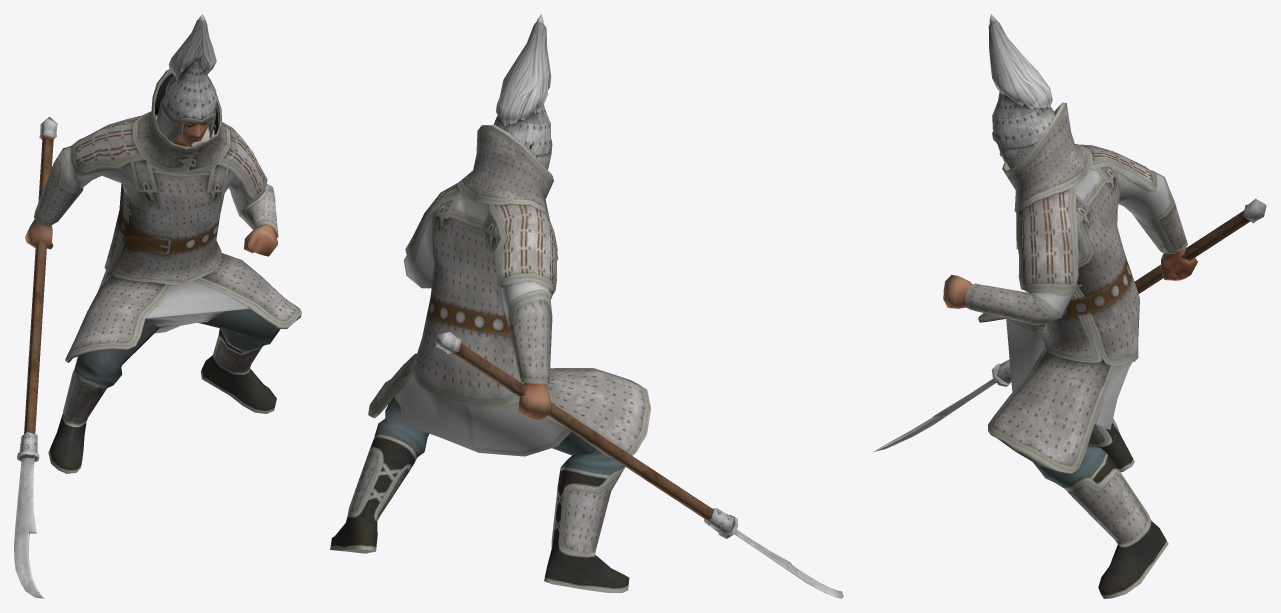
File: rider-championcavalry.glb
The picture shows the model from 3 angles, left to right: view 1: azimuth 30°, elevation 25°; view 2: azimuth 150°, elevation 25°; view 3: azimuth 270°, elevation 25°; orthographic projection. The views are drawn at different scales.
Bounding box in the file's own units: 1.73 × 2.37 × 1.53.
3 materials, 3 textured.
